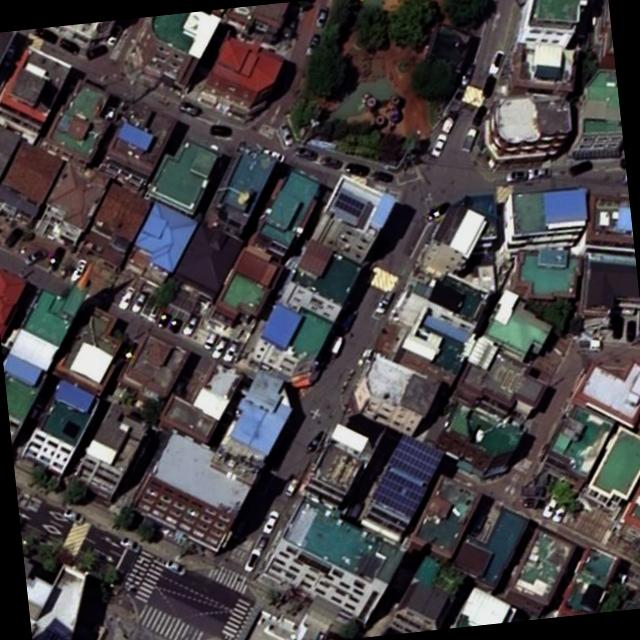solar: (382, 428, 448, 489), (368, 466, 431, 526), (332, 189, 366, 220)
